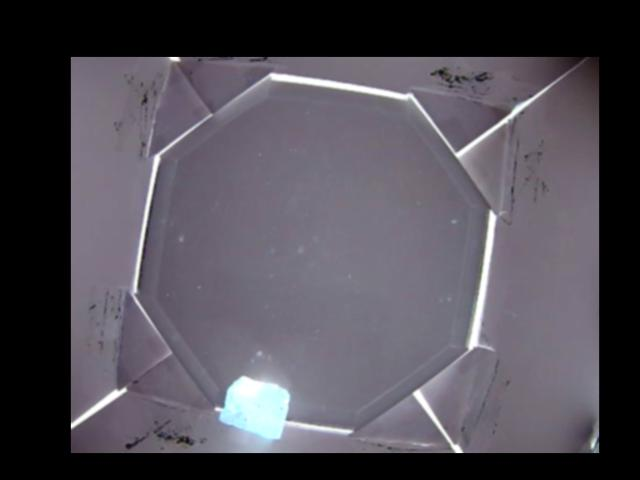Brisk: (220, 376, 287, 439)
